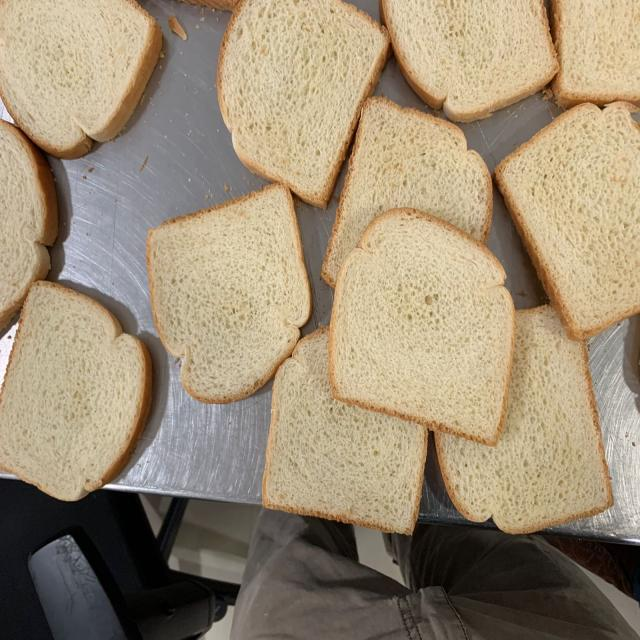pan: (328, 209, 516, 444), (148, 184, 312, 405), (217, 0, 389, 209), (0, 281, 154, 502)
